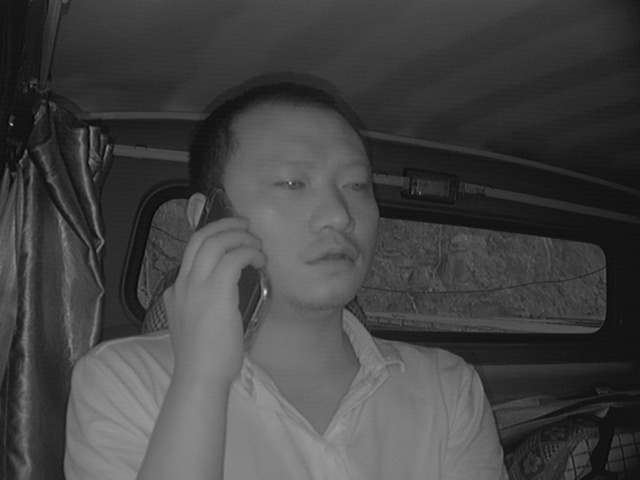hand: (160, 217, 261, 370)
